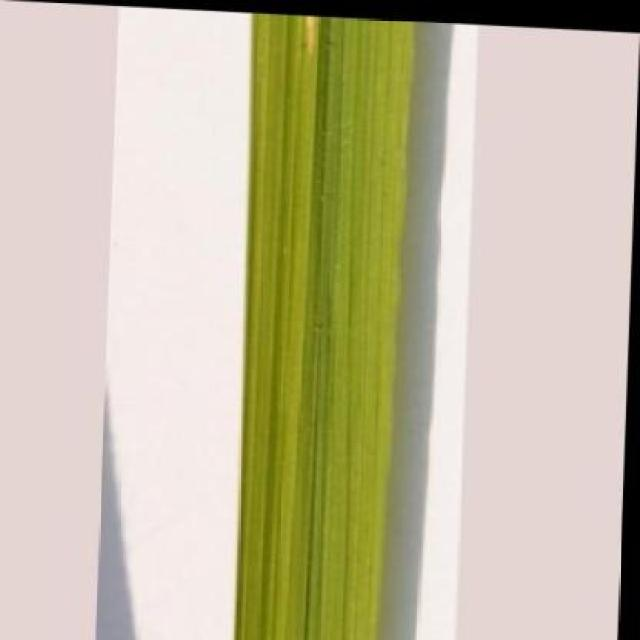Brown_Spot: (227, 9, 416, 640)
